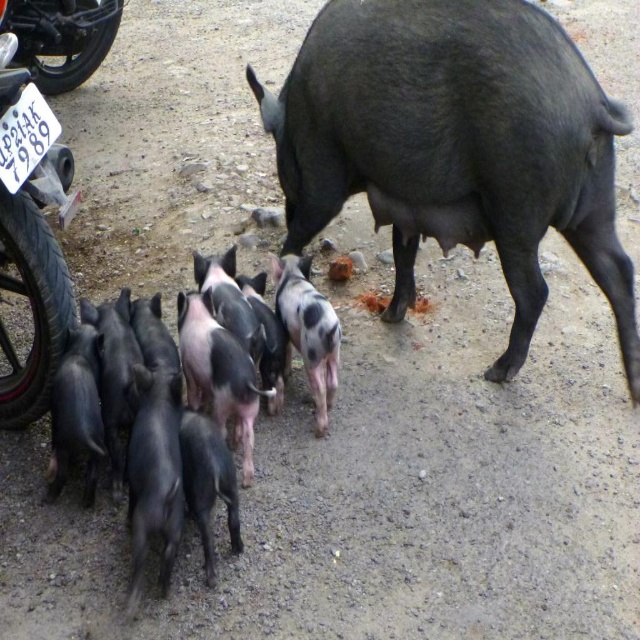Pig: (41, 0, 640, 621)
